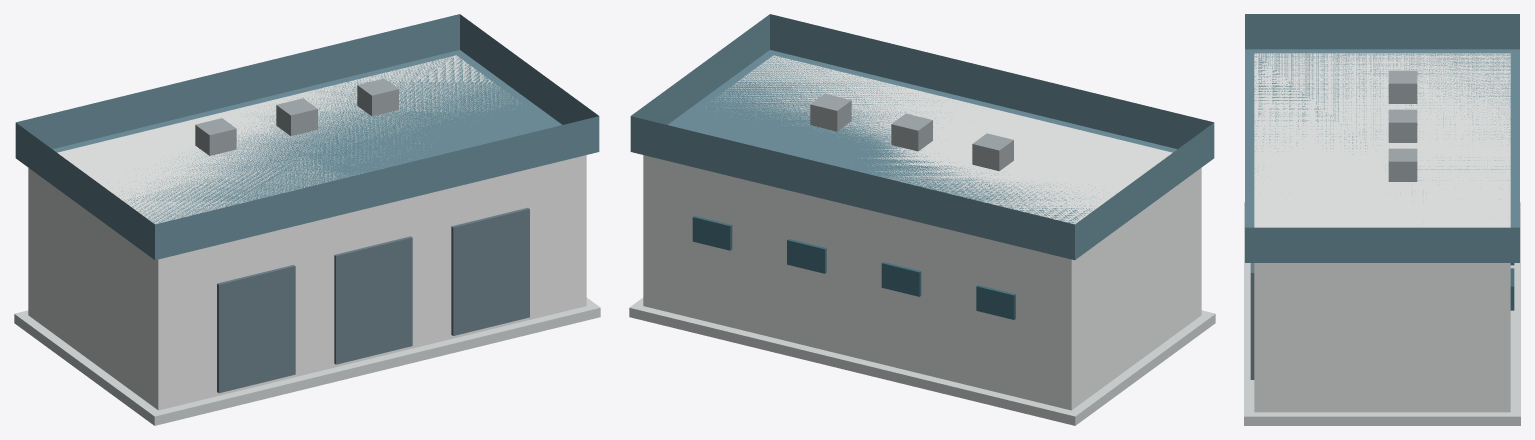
File: workshop.glb
3 renders of one model, left to right at view 1: azimuth 30°, elevation 25°; view 2: azimuth 150°, elevation 25°; view 3: azimuth 270°, elevation 25°, orthographic.
Visible parts, largest first — view 1: Workshop; view 2: Workshop; view 3: Workshop.
Part boxes in pixels (x1,y1,x2,y2): Workshop: [14, 14, 600, 425]; Workshop: [629, 14, 1215, 425]; Workshop: [1244, 14, 1520, 425].
Size of the model in its own units: 4.95 by 2.18 by 2.7.
